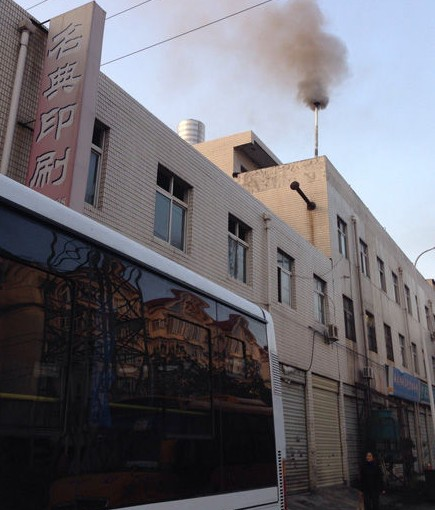dust: (237, 8, 363, 117)
